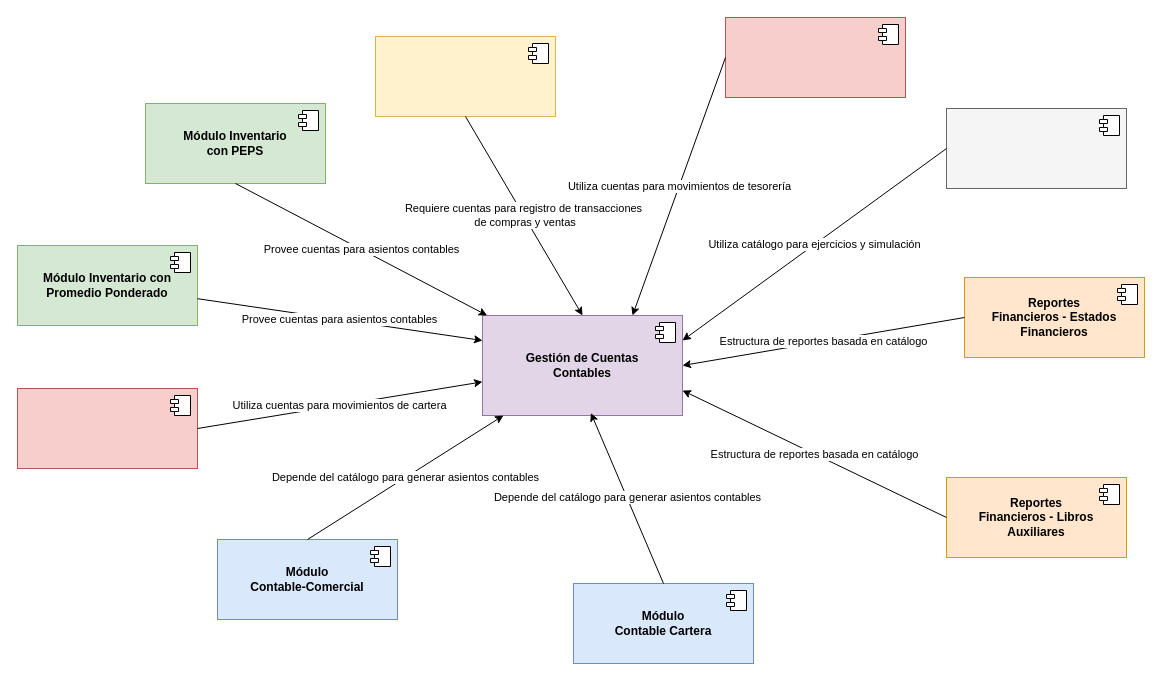
Image size: 1162x681. Some labels were removed from this diagram. Each missing label, with the centre of its shape:
"Módulo Comercial" belongs at point 465,76.
"Módulo de Cartera" belongs at point 107,428.
"Módulo de Tesorería" belongs at point 815,57.
"Módulo Educativo Contable" belongs at point 1036,148.
